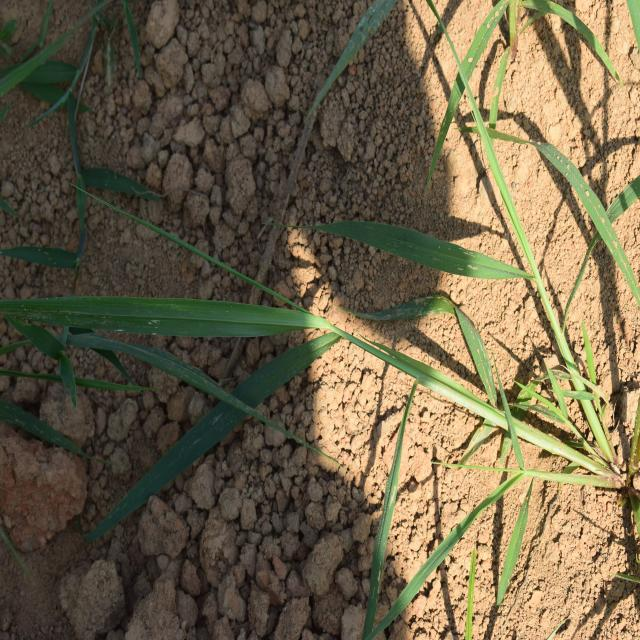green_foxtail: (122, 215, 620, 532)
